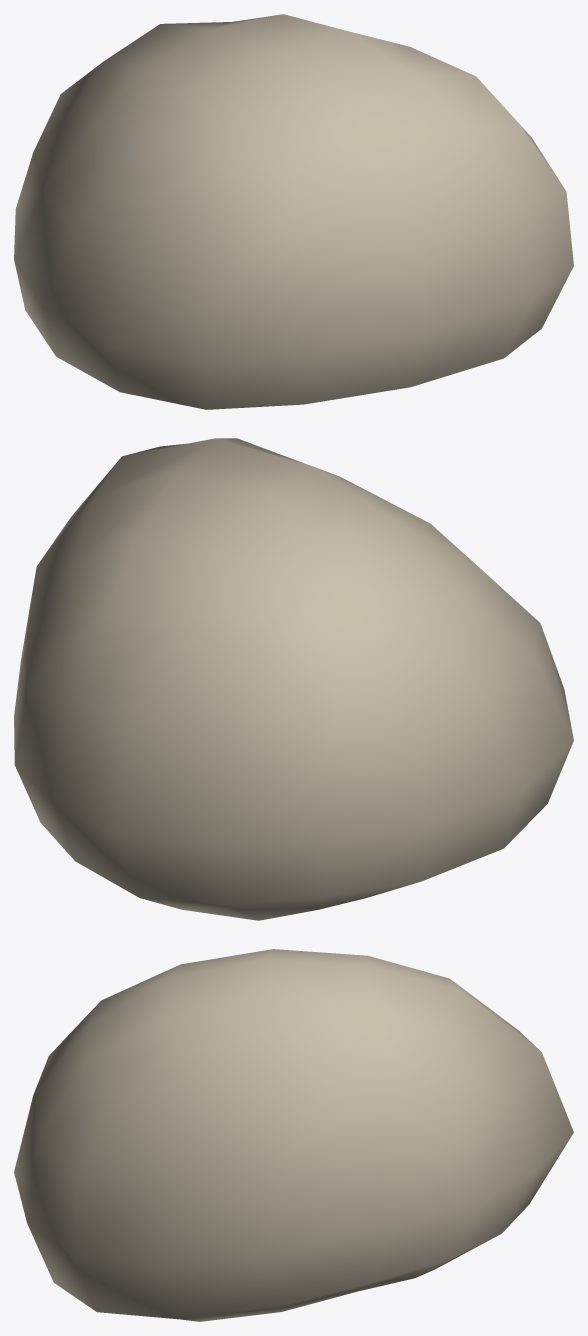
The model's file is itch_assetquest_pond_pebble_3c.glb.
3 views of the same model, one above another, from view 1: azimuth 30°, elevation 25°; view 2: azimuth 150°, elevation 25°; view 3: azimuth 270°, elevation 25° (orthographic). The views are drawn at different scales.
Parts seen in each view (by area): view 1: Pebble_3c; view 2: Pebble_3c; view 3: Pebble_3c.
Boxes of the visible parts, x1,y1,x2,y2 form: Pebble_3c: [14, 14, 573, 409]; Pebble_3c: [14, 438, 573, 920]; Pebble_3c: [14, 949, 573, 1321].
Size of the model in its own units: 0.3973 by 0.2557 by 0.42.
